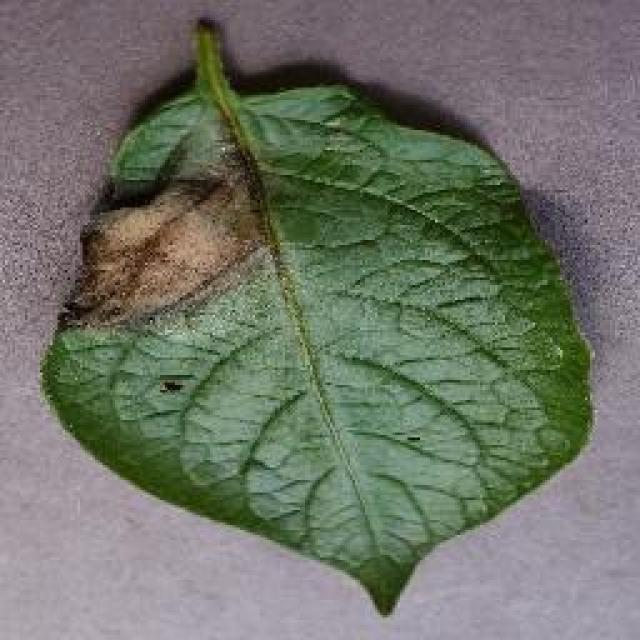Late_blight: (39, 134, 318, 362)
